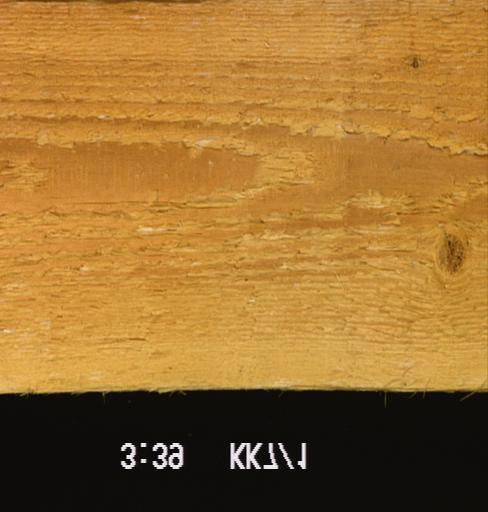small_knot: (407, 51, 424, 71)
sound_knot: (432, 228, 469, 275)
